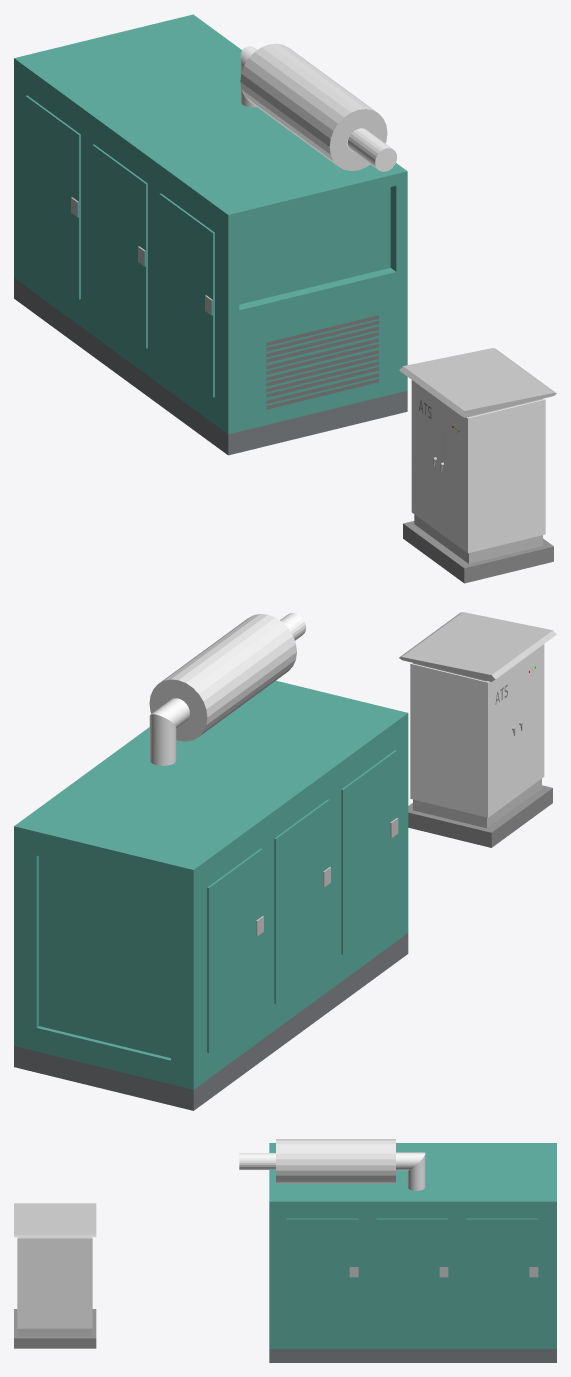
Rendered from tinyM.gltf.
3 renders of one model, top to bottom at view 1: azimuth 30°, elevation 25°; view 2: azimuth 150°, elevation 25°; view 3: azimuth 270°, elevation 25°, orthographic. The views are drawn at different scales.
Visible parts, largest first — view 1: tinyM; view 2: tinyM; view 3: tinyM.
Boxes of the visible parts, bbox=[...] form: tinyM: bbox=[14, 14, 556, 583]; tinyM: bbox=[14, 612, 556, 1110]; tinyM: bbox=[14, 1139, 556, 1362].
Bounding box in the file's own units: 2905 × 4647 × 11024.
